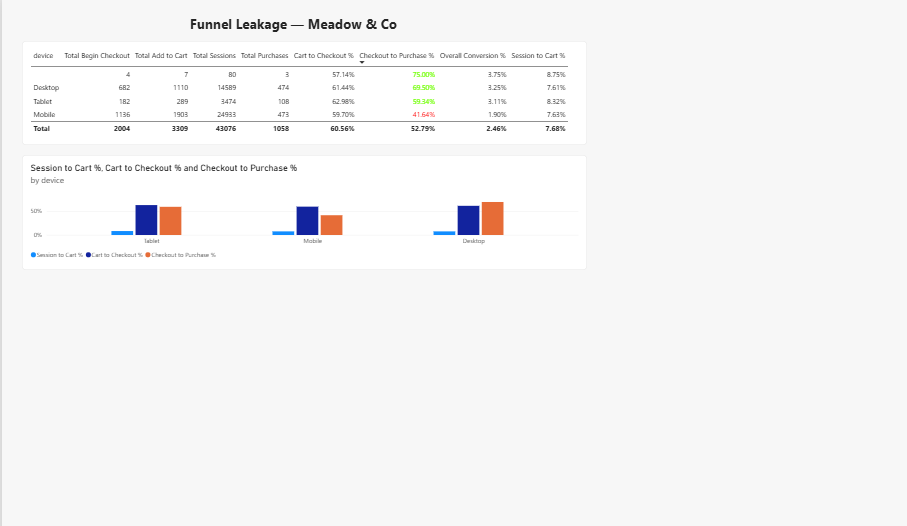

Layout of this report page (visuals, bound fields, positions):
{"tool":"powerbi","page":{"name":"Funnel Leakage","canvas":[1920,1080],"ordinal":2},"visuals":[{"type":"tableEx","fields":{"Values":["Web Funnel.device","_Measures.Total Begin Checkout","_Measures.Total Add to Cart","_Measures.Total Sessions","_Measures.Total Purchases","_Measures.Cart to Checkout %","_Measures.Checkout to Purchase %","_Measures.Overall Conversion %","_Measures.Session to Cart %"]},"box":[40,82.5,1130,207.5],"z":0},{"type":"clusteredColumnChart","fields":{"Category":["Web Funnel.device"],"Y":["_Measures.Session to Cart %","_Measures.Cart to Checkout %","_Measures.Checkout to Purchase %"]},"box":[40,310,1130,230],"z":1},{"type":"textbox","box":[375,28.8,417.5,37.5],"z":2}]}

Visuals, with their boxes on the page's 1920x1080 design canvas (x1, y1, x2, y2). These are canvas units, not pixel positions in the 907x526 screenshot, which may show the page scaled, cropped or inside an application window:
tableEx - Web Funnel.device x _Measures.Total Begin Checkout: {"left": 40, "top": 82, "right": 1170, "bottom": 290}
clusteredColumnChart - Web Funnel.device x _Measures.Session to Cart %: {"left": 40, "top": 310, "right": 1170, "bottom": 540}
textbox: {"left": 375, "top": 29, "right": 792, "bottom": 66}
